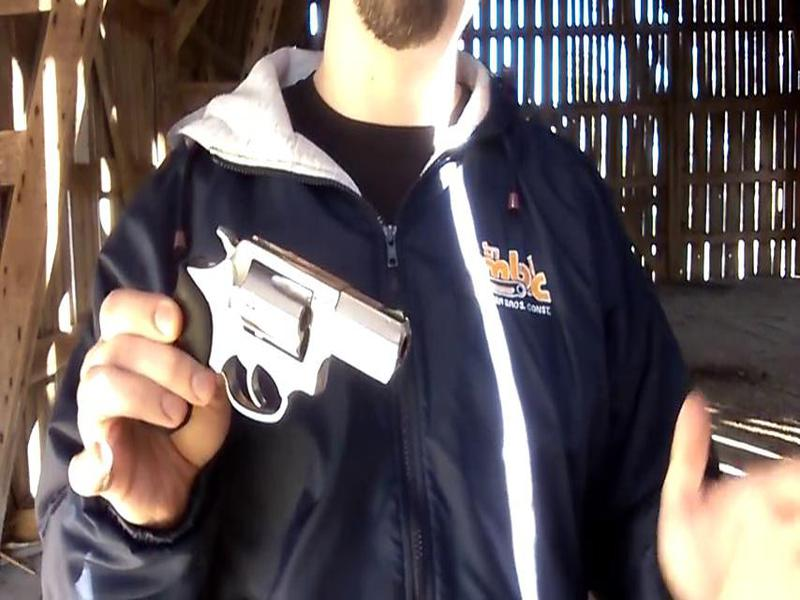Revolver: (143, 216, 419, 444)
